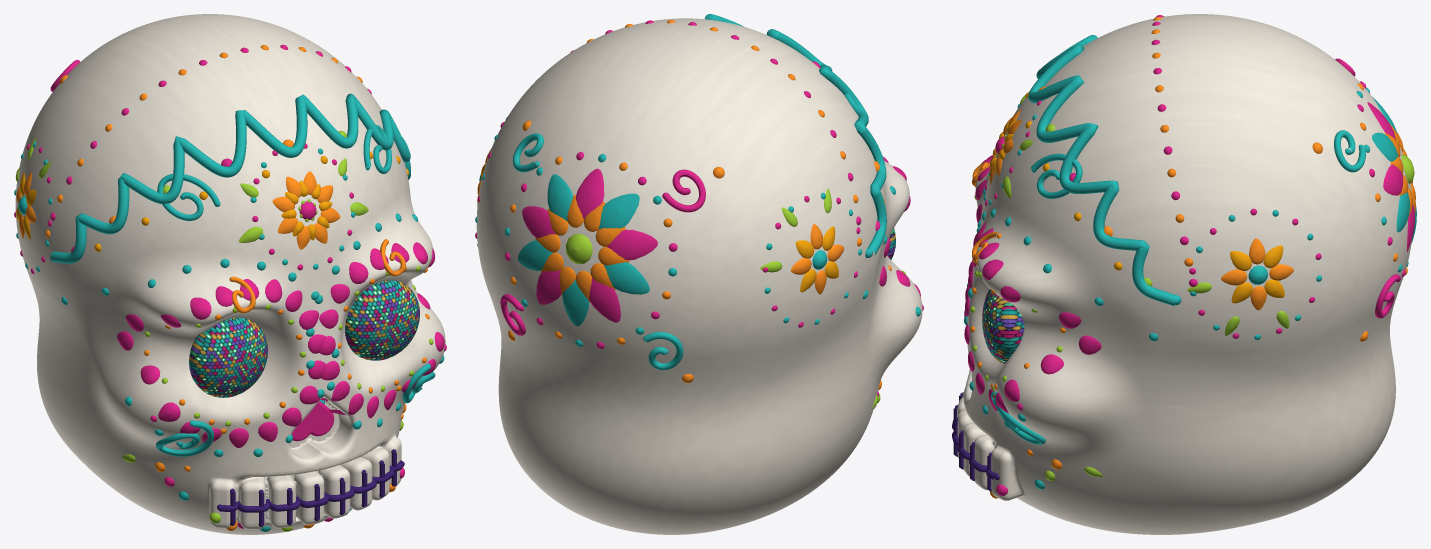
File: sugar_skull_hero.glb
3 renders of one model, left to right at view 1: azimuth 30°, elevation 25°; view 2: azimuth 150°, elevation 25°; view 3: azimuth 270°, elevation 25°, orthographic. The views are drawn at different scales.
Visible parts, largest first — view 1: sugar_skull_hero; view 2: sugar_skull_hero; view 3: sugar_skull_hero.
Part boxes in pixels (x1,y1,x2,y2): sugar_skull_hero: (14, 14, 446, 534); sugar_skull_hero: (475, 14, 923, 534); sugar_skull_hero: (952, 14, 1416, 534).
Size of the model in its own units: 0.1634 by 0.2 by 0.1802.
3 materials, 2 textured.
